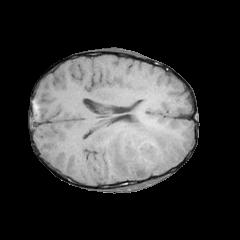glioma: (107, 122, 175, 178)
